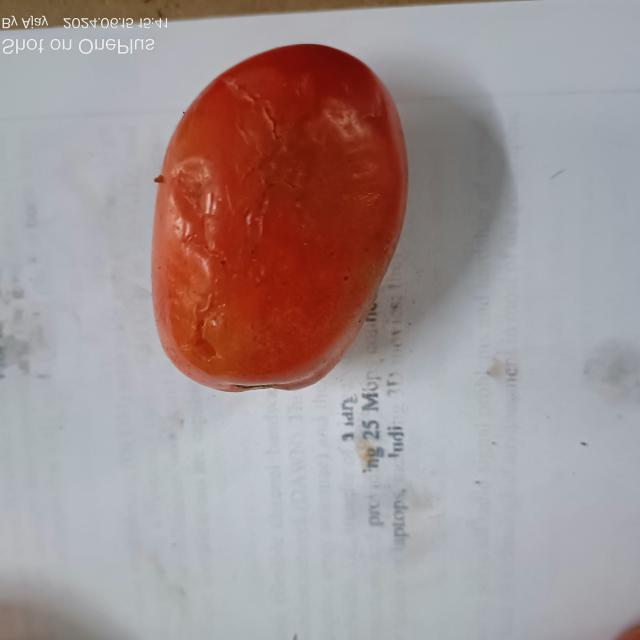Botrytis: (233, 78, 282, 144), (180, 294, 220, 366)
